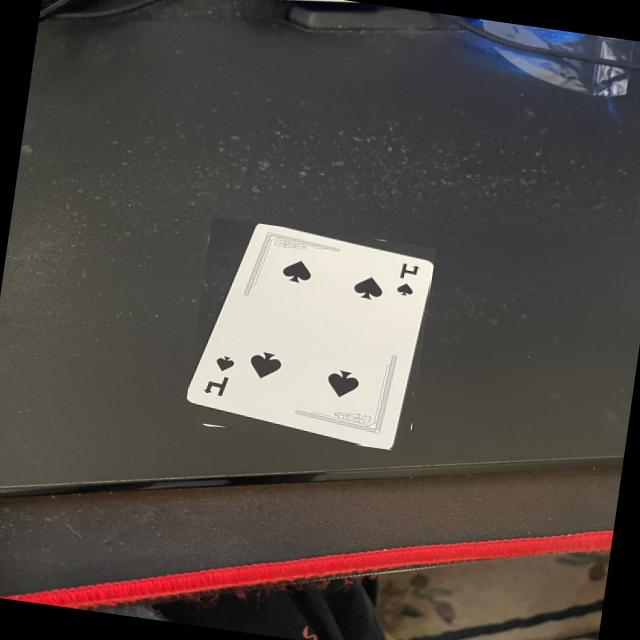4 of spades: (187, 225, 433, 449)
